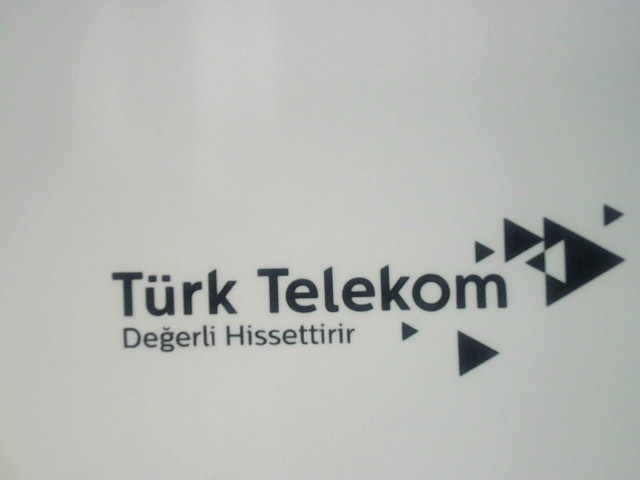AQ_TURKTelekom: (106, 201, 627, 380)
